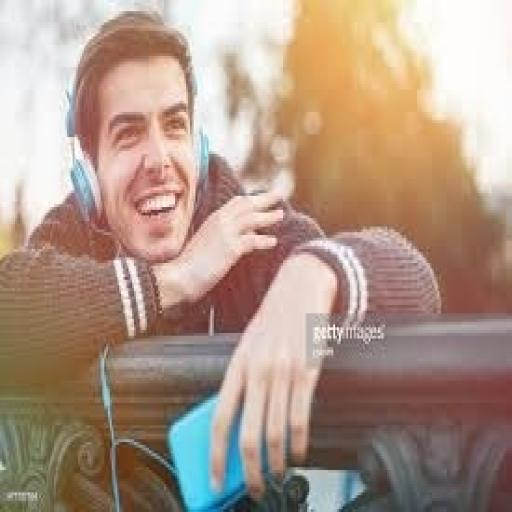listening_to_music: (0, 8, 443, 510)
